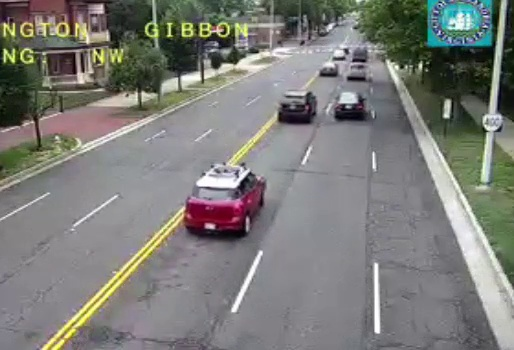car: (184, 164, 267, 234), (278, 91, 316, 120), (334, 93, 363, 117), (347, 63, 367, 80)
